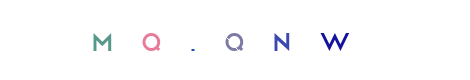8: (174, 0, 254, 80)
M: (111, 0, 191, 80)
N: (248, 0, 328, 80)
Q: (148, 0, 228, 80), (195, 0, 275, 80)
W: (294, 0, 374, 80)
